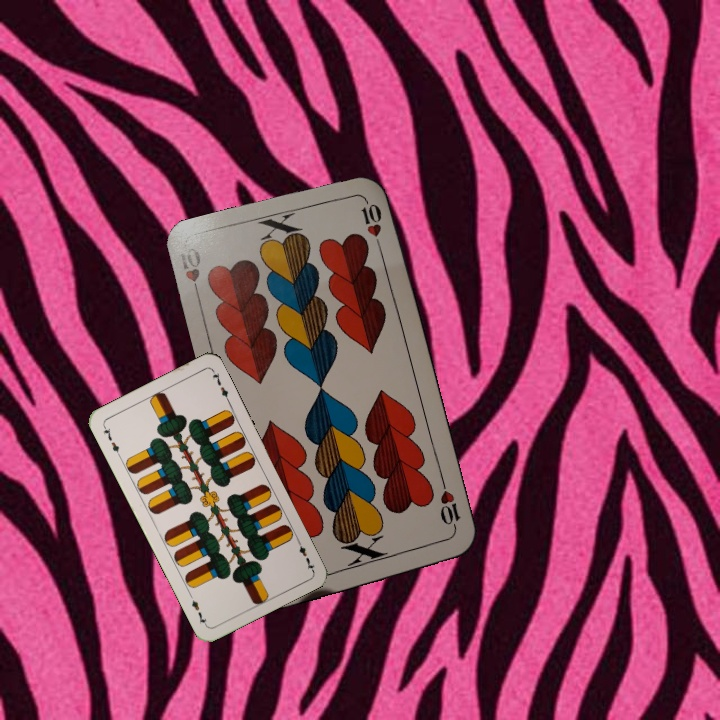E7: (292, 535, 317, 573), (99, 422, 124, 459)
H10: (175, 243, 204, 303), (436, 477, 463, 536)
